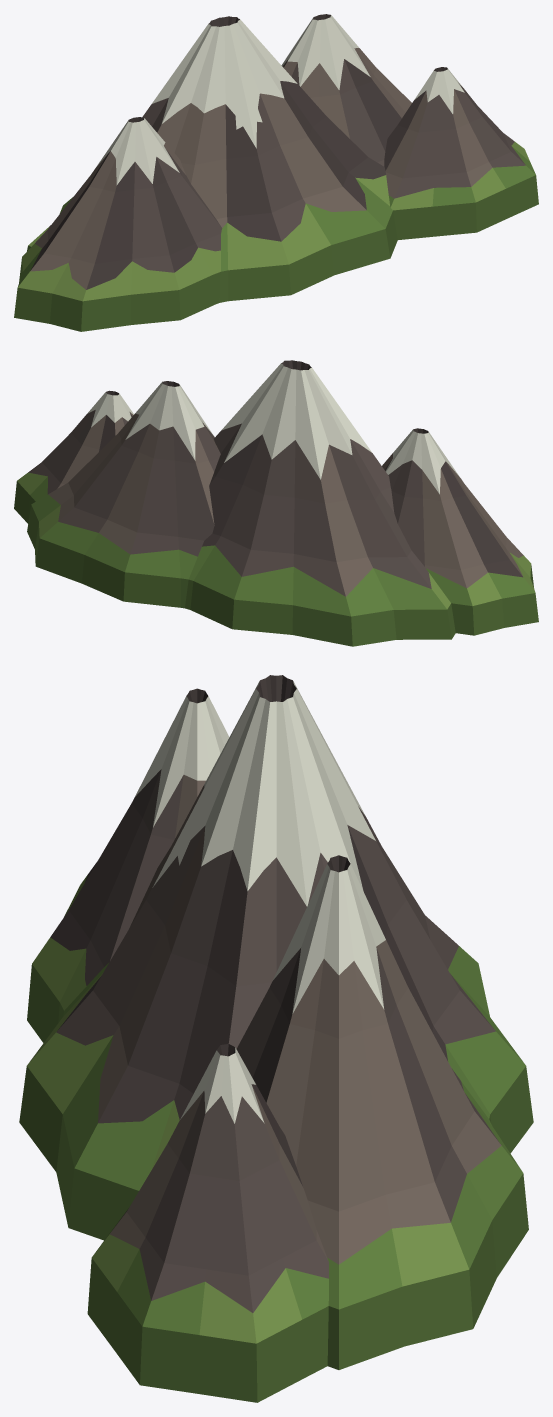
The model's file is volcano_ridge.glb.
3 views of the same model, one above another, from view 1: azimuth 30°, elevation 25°; view 2: azimuth 150°, elevation 25°; view 3: azimuth 270°, elevation 25° (orthographic). The views are drawn at different scales.
Visible parts, largest first — view 1: volcano_ridge; view 2: volcano_ridge; view 3: volcano_ridge.
Part boxes in pixels (bbox=[...]): volcano_ridge: bbox=[14, 14, 538, 331]; volcano_ridge: bbox=[14, 360, 538, 646]; volcano_ridge: bbox=[19, 675, 533, 1402].
Bounding box in the file's own units: 2.83 × 1.15 × 1.24.
